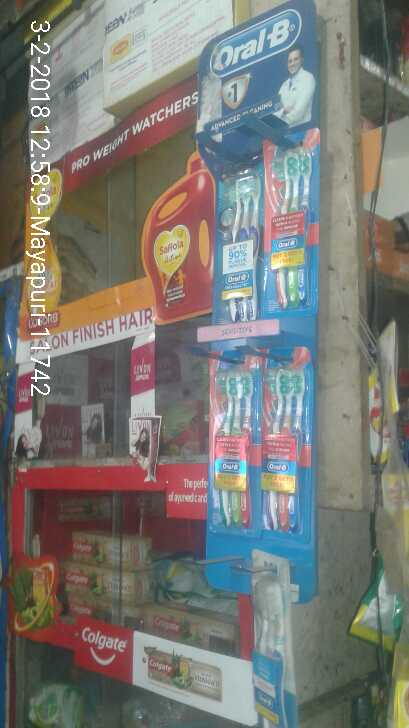oralb: (202, 368, 266, 527), (265, 364, 318, 543), (263, 144, 314, 313), (214, 183, 261, 324)
